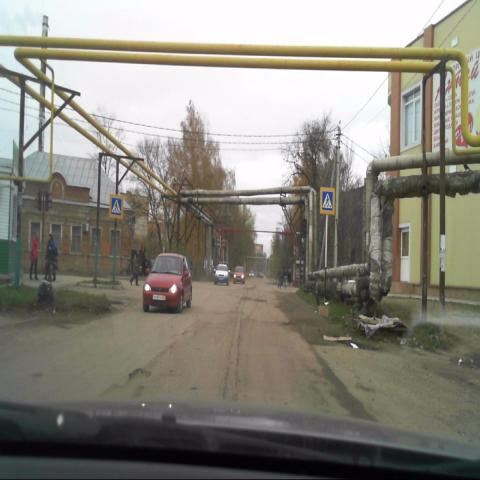5_19_1: (320, 187, 334, 215), (110, 195, 123, 219)
